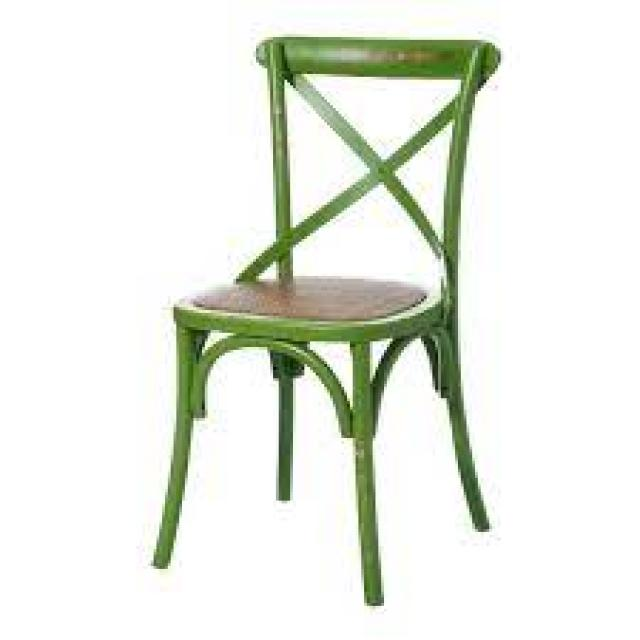bottle: (156, 35, 500, 614)
